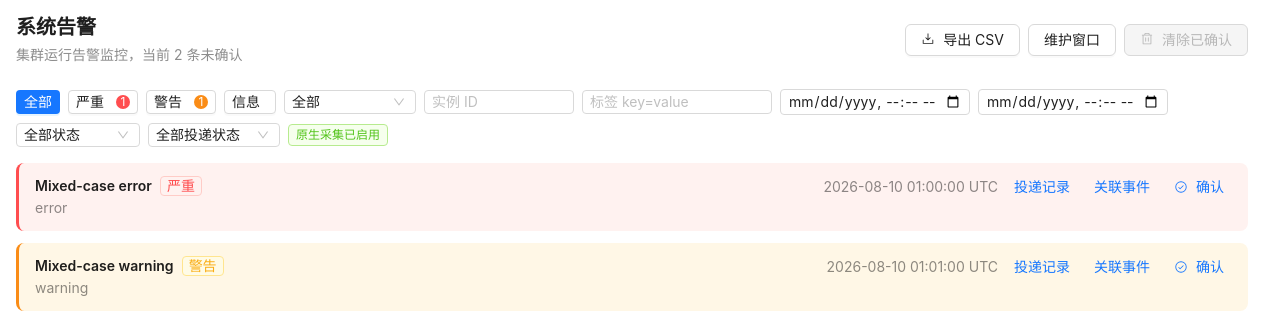
Test case: SystemAlertsPage › filters backend alert levels case-insensitively
expect the text "Mixed-case error" is shown: met, box [35,177,152,194]
Click the button "严重 1".
click(103, 102)  # box [68,90,138,114]
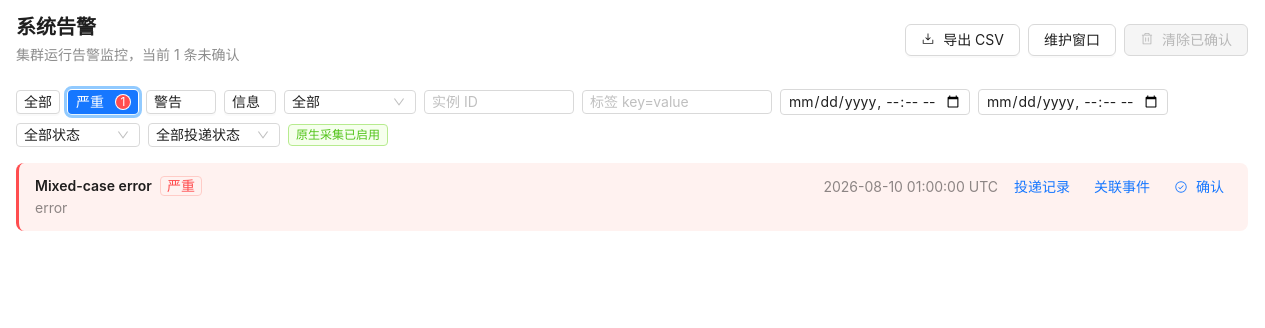
expect the text "Mixed-case error" is shown: met, box [35,177,152,194]
expect the text "Mixed-case warning" is gone: met
